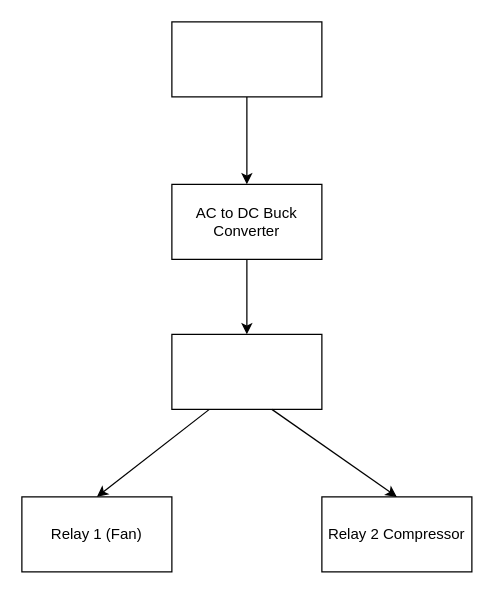
This 494x594 diagram has some shape labels left out. The box of each missing label's shape, as (x1, y1, x2, y2) in pixels:
24V AC HVAC Power: (171, 21, 322, 97)
ESP32 Relay Board: (171, 333, 322, 409)
